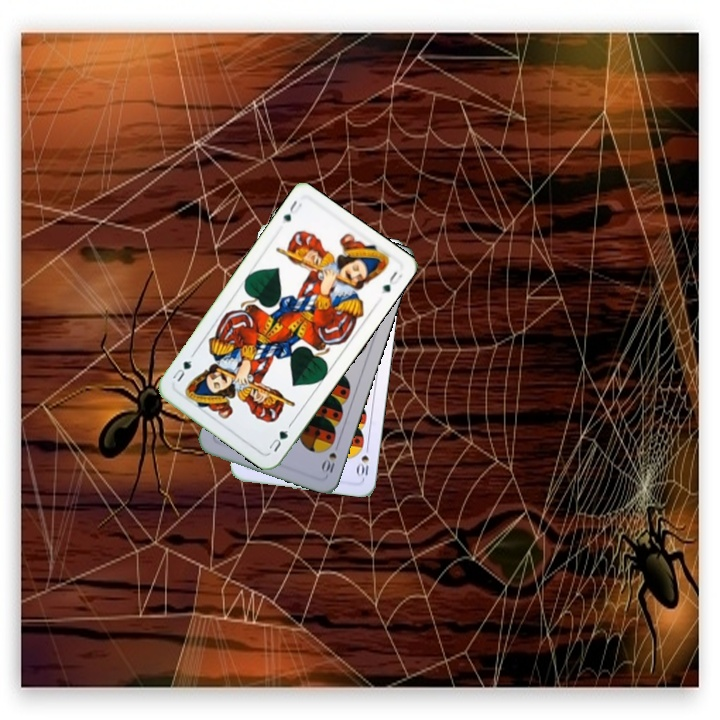GU: (265, 426, 291, 455), (279, 196, 305, 224)
S10: (318, 439, 342, 478), (353, 441, 371, 481)
